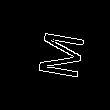M_W: (26, 28, 84, 82)
